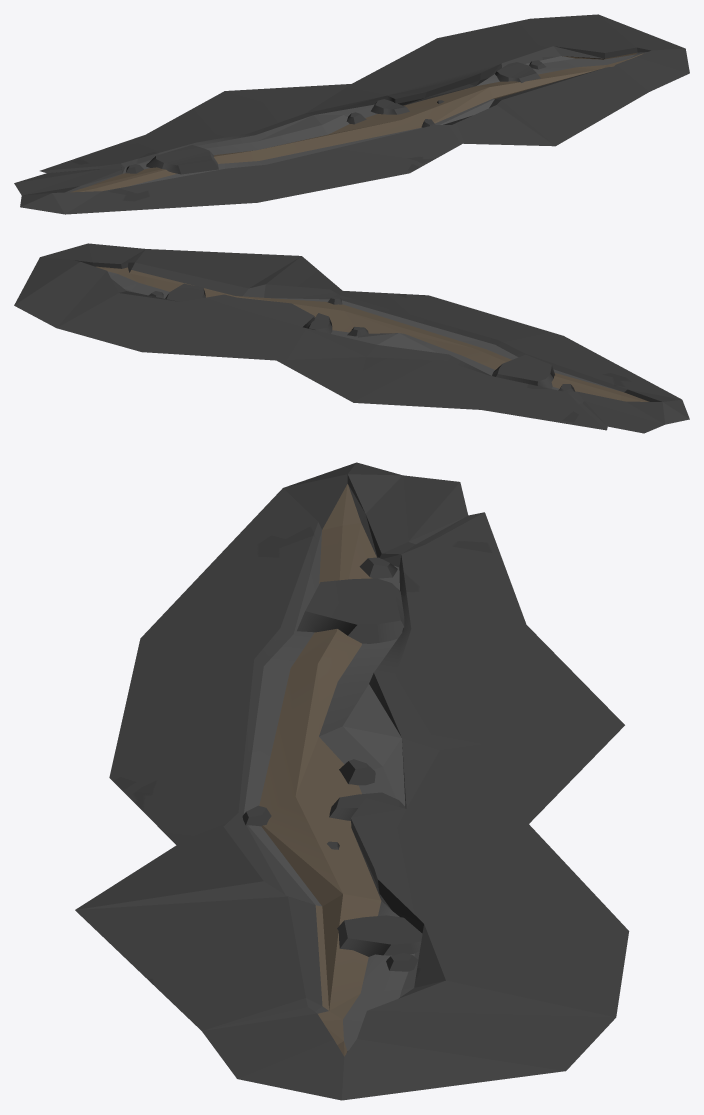
Rendered from SM_Env_RoadPiece_Damaged_04.glb.
3 renders of one model, top to bottom at view 1: azimuth 30°, elevation 25°; view 2: azimuth 150°, elevation 25°; view 3: azimuth 270°, elevation 25°, orthographic. The views are drawn at different scales.
Visible parts, largest first — view 1: SM_Env_RoadPiece_Damaged_04; view 2: SM_Env_RoadPiece_Damaged_04; view 3: SM_Env_RoadPiece_Damaged_04.
Boxes of the visible parts, bbox=[...] form: SM_Env_RoadPiece_Damaged_04: bbox=[14, 14, 689, 214]; SM_Env_RoadPiece_Damaged_04: bbox=[14, 243, 689, 433]; SM_Env_RoadPiece_Damaged_04: bbox=[75, 462, 629, 1100].
Size of the model in its own units: 9.22 by 0.3032 by 3.39.
1 material, 1 textured.
